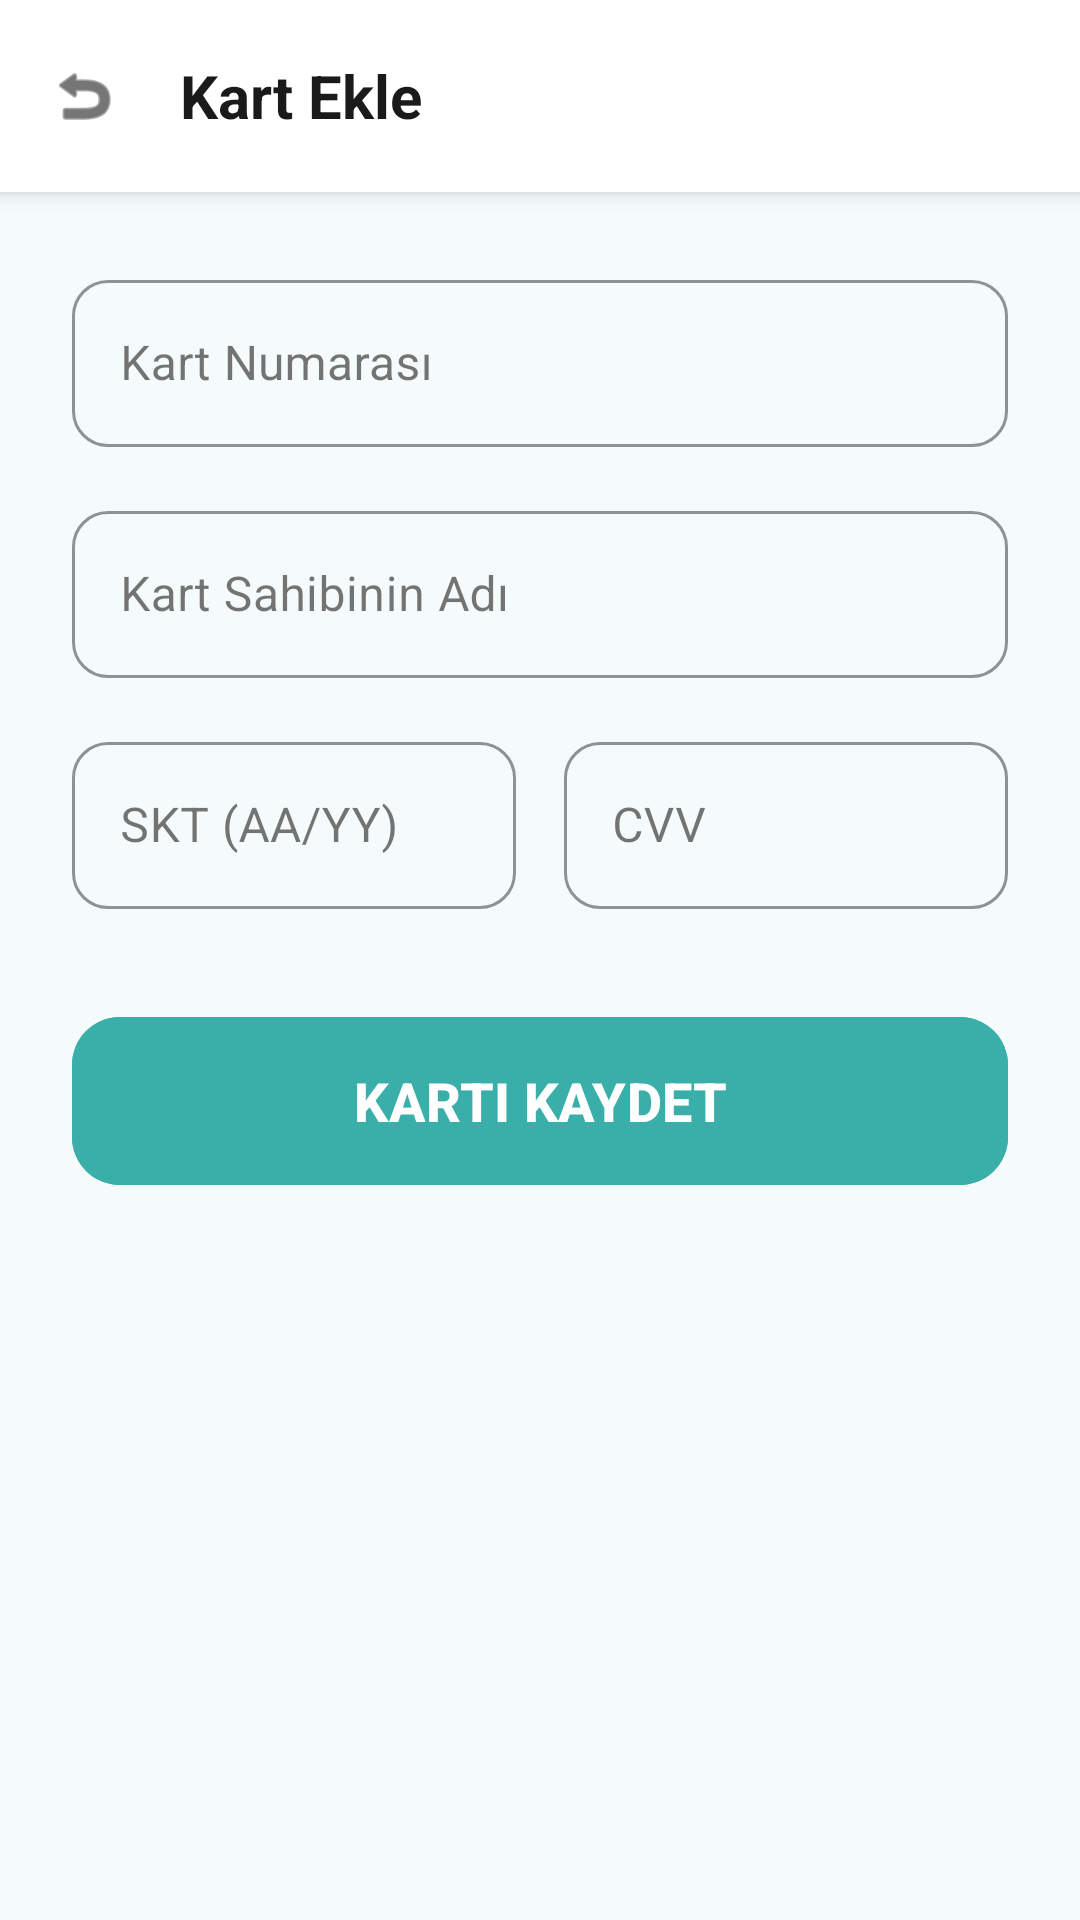

Locate icon controls on the screen. Image size 1080 x 1920, boxes as [x1=x1, y1=y1, x2=x2, y2=y2].
Geri: [x1=59, y1=73, x2=111, y2=120]
